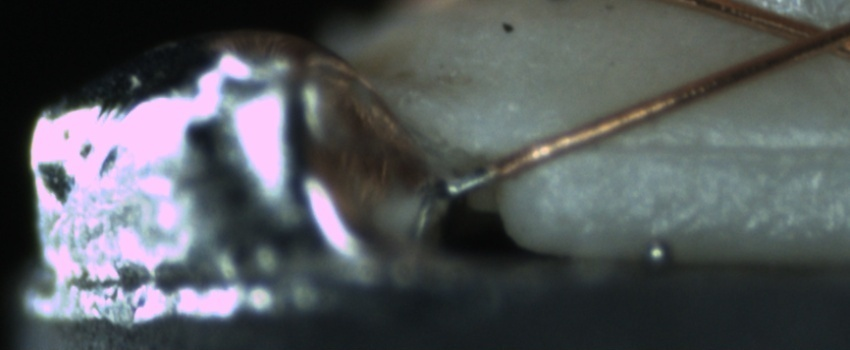CL: (768, 8, 850, 64)
DL: (566, 114, 848, 181)
TS: (442, 165, 496, 200)
